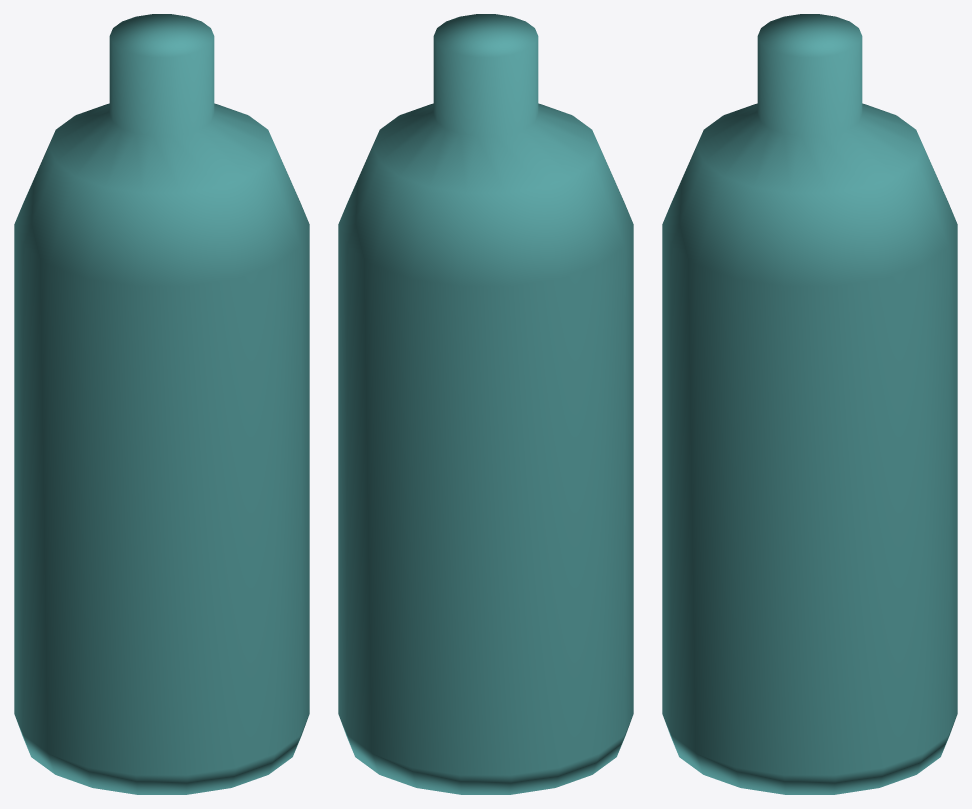
Rendered from BM-C06_Comfort_Drops.glb.
The picture shows the model from 3 angles, left to right: view 1: azimuth 30°, elevation 25°; view 2: azimuth 150°, elevation 25°; view 3: azimuth 270°, elevation 25°; orthographic projection.
Visible parts, largest first — view 1: Comfort_Drops; view 2: Comfort_Drops; view 3: Comfort_Drops.
Part boxes in pixels (x1,y1,x2,y2): Comfort_Drops: [14, 14, 309, 794]; Comfort_Drops: [338, 14, 633, 794]; Comfort_Drops: [662, 14, 957, 794].
Size of the model in its own units: 0.0415 by 0.1104 by 0.0422.
